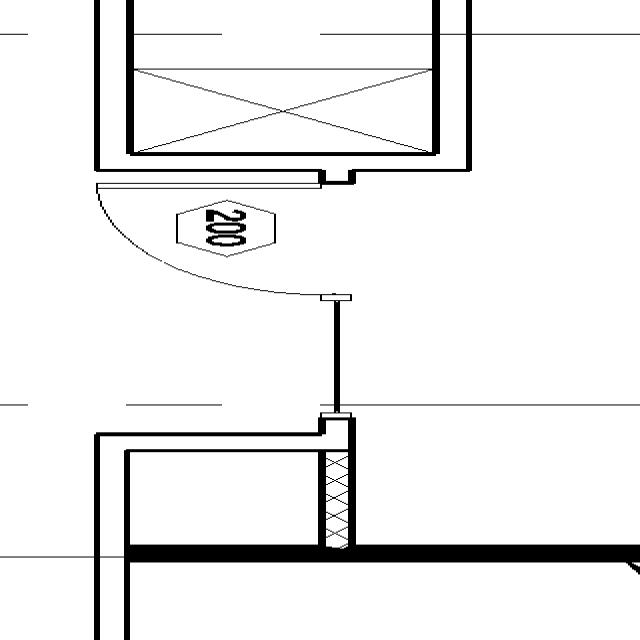Doors: (83, 178, 361, 309)
